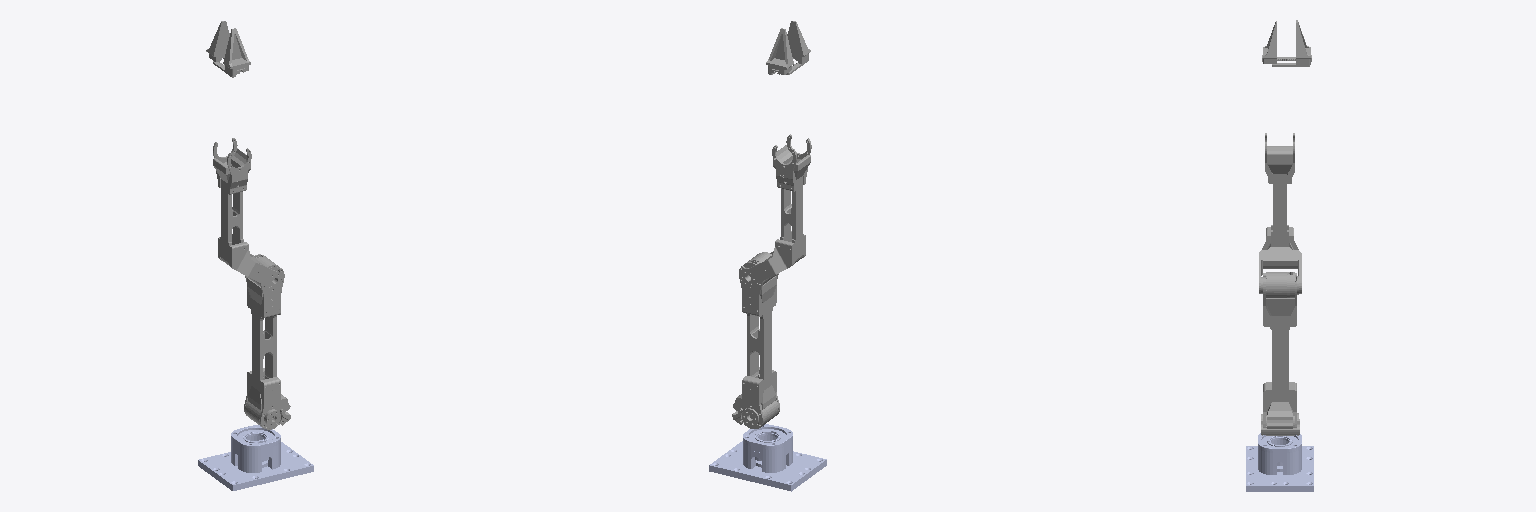
URDF robot description (ice_cream_v12.SLDASM):
<?xml version="1.0" encoding="utf-8"?>
<!-- This URDF was automatically created by SolidWorks to URDF Exporter! Originally created by Stephen Brawner (brawner@gmail.com) 
     Commit Version: 1.6.0-4-g7f85cfe  Build Version: 1.6.7995.38578
     For more information, please see http://wiki.ros.org/sw_urdf_exporter -->
<robot
  name="ice_cream_v12.SLDASM">
  <link
    name="link0">
    <inertial>
      <origin
        xyz="-1.1589E-12 -2.4683E-05 0.022203"
        rpy="0 0 0" />
      <mass
        value="0.64677" />
      <inertia
        ixx="0.00093877"
        ixy="1.322E-11"
        ixz="5.0662E-16"
        iyy="0.0014938"
        iyz="2.86E-07"
        izz="0.0023114" />
    </inertial>
    <visual>
      <origin
        xyz="0 0 0"
        rpy="0 0 0" />
      <geometry>
        <mesh
          filename="package://ice_cream_v12.SLDASM/meshes/link0.STL" />
      </geometry>
      <material
        name="">
        <color
          rgba="0.79216 0.81961 0.93333 1" />
      </material>
    </visual>
    <collision>
      <origin
        xyz="0 0 0"
        rpy="0 0 0" />
      <geometry>
        <mesh
          filename="package://ice_cream_v12.SLDASM/meshes/link0.STL" />
      </geometry>
    </collision>
  </link>
  <link
    name="link1">
    <inertial>
      <origin
        xyz="0.00027968 -1.1097E-05 -0.0099062"
        rpy="0 0 0" />
      <mass
        value="0.40326" />
      <inertia
        ixx="0.00022945"
        ixy="8.1588E-08"
        ixz="-1.1192E-05"
        iyy="0.00013813"
        iyz="-2.9776E-09"
        izz="0.00025905" />
    </inertial>
    <visual>
      <origin
        xyz="0 0 0"
        rpy="0 0 0" />
      <geometry>
        <mesh
          filename="package://ice_cream_v12.SLDASM/meshes/link1.STL" />
      </geometry>
      <material
        name="">
        <color
          rgba="0.69804 0.69804 0.69804 1" />
      </material>
    </visual>
    <collision>
      <origin
        xyz="0 0 0"
        rpy="0 0 0" />
      <geometry>
        <mesh
          filename="package://ice_cream_v12.SLDASM/meshes/link1.STL" />
      </geometry>
    </collision>
  </link>
  <joint
    name="joint1"
    type="continuous">
    <origin
      xyz="0 0 0.067"
      rpy="0 0 0" />
    <parent
      link="link0" />
    <child
      link="link1" />
    <axis
      xyz="0 0 -1" />
    <limit
      lower="-3.14"
      upper="3.14"
      effort="0"
      velocity="0.1" />
  </joint>
  <link
    name="link2">
    <inertial>
      <origin
        xyz="0.069138 -0.0019583 -0.028638"
        rpy="0 0 0" />
      <mass
        value="0.69693" />
      <inertia
        ixx="0.00026315"
        ixy="-0.00010234"
        ixz="-3.267E-09"
        iyy="0.0020828"
        iyz="5.0935E-08"
        izz="0.0021446" />
    </inertial>
    <visual>
      <origin
        xyz="0 0 0"
        rpy="0 0 0" />
      <geometry>
        <mesh
          filename="package://ice_cream_v12.SLDASM/meshes/link2.STL" />
      </geometry>
      <material
        name="">
        <color
          rgba="0.69804 0.69804 0.69804 1" />
      </material>
    </visual>
    <collision>
      <origin
        xyz="0 0 0"
        rpy="0 0 0" />
      <geometry>
        <mesh
          filename="package://ice_cream_v12.SLDASM/meshes/link2.STL" />
      </geometry>
    </collision>
  </link>
  <joint
    name="joint2"
    type="continuous">
    <origin
      xyz="0.02 -0.03115 0.0585"
      rpy="1.5708 -1.5708 0" />
    <parent
      link="link1" />
    <child
      link="link2" />
    <axis
      xyz="0 0 1" />
    <limit
      lower="-3.14"
      upper="3.14"
      effort="0"
      velocity="0.1" />
  </joint>
  <link
    name="link3">
    <inertial>
      <origin
        xyz="0.054018 0.028002 -0.028364"
        rpy="0 0 0" />
      <mass
        value="0.64093" />
      <inertia
        ixx="0.00027528"
        ixy="-0.00014655"
        ixz="2.8375E-10"
        iyy="0.0014948"
        iyz="-5.1917E-08"
        izz="0.0015892" />
    </inertial>
    <visual>
      <origin
        xyz="0 0 0"
        rpy="0 0 0" />
      <geometry>
        <mesh
          filename="package://ice_cream_v12.SLDASM/meshes/link3.STL" />
      </geometry>
      <material
        name="">
        <color
          rgba="0.69804 0.69804 0.69804 1" />
      </material>
    </visual>
    <collision>
      <origin
        xyz="0 0 0"
        rpy="0 0 0" />
      <geometry>
        <mesh
          filename="package://ice_cream_v12.SLDASM/meshes/link3.STL" />
      </geometry>
    </collision>
  </link>
  <joint
    name="joint3"
    type="continuous">
    <origin
      xyz="0.31862 0 0"
      rpy="0 0 0" />
    <parent
      link="link2" />
    <child
      link="link3" />
    <axis
      xyz="0 0 1" />
    <limit
      lower="-3.14"
      upper="3.14"
      effort="0"
      velocity="0.1" />
  </joint>
  <link
    name="link4">
    <inertial>
      <origin
        xyz="0.019865 -0.0020539 -0.024931"
        rpy="0 0 0" />
      <mass
        value="0.4877" />
      <inertia
        ixx="0.00020246"
        ixy="6.2992E-06"
        ixz="6.4615E-09"
        iyy="0.00026934"
        iyz="-1.2536E-07"
        izz="0.00024403" />
    </inertial>
    <visual>
      <origin
        xyz="0 0 0"
        rpy="0 0 0" />
      <geometry>
        <mesh
          filename="package://ice_cream_v12.SLDASM/meshes/link4.STL" />
      </geometry>
      <material
        name="">
        <color
          rgba="0.69804 0.69804 0.69804 1" />
      </material>
    </visual>
    <collision>
      <origin
        xyz="0 0 0"
        rpy="0 0 0" />
      <geometry>
        <mesh
          filename="package://ice_cream_v12.SLDASM/meshes/link4.STL" />
      </geometry>
    </collision>
  </link>
  <joint
    name="joint4"
    type="continuous">
    <origin
      xyz="0.29035 0.076833 -0.00365"
      rpy="0 0 0" />
    <parent
      link="link3" />
    <child
      link="link4" />
    <axis
      xyz="0 0 1" />
    <limit
      lower="-3.14"
      upper="3.14"
      effort="0"
      velocity="0.1" />
  </joint>
  <link
    name="link5">
    <inertial>
      <origin
        xyz="-0.011789 -0.0028402 0.068578"
        rpy="0 0 0" />
      <mass
        value="0.28935" />
      <inertia
        ixx="0.00027601"
        ixy="-6.3131E-06"
        ixz="9.501E-06"
        iyy="0.00011004"
        iyz="1.2774E-06"
        izz="0.00029323" />
    </inertial>
    <visual>
      <origin
        xyz="0 0 0"
        rpy="0 0 0" />
      <geometry>
        <mesh
          filename="package://ice_cream_v12.SLDASM/meshes/link5.STL" />
      </geometry>
      <material
        name="">
        <color
          rgba="1 1 1 1" />
      </material>
    </visual>
    <collision>
      <origin
        xyz="0 0 0"
        rpy="0 0 0" />
      <geometry>
        <mesh
          filename="package://ice_cream_v12.SLDASM/meshes/link5.STL" />
      </geometry>
    </collision>
  </link>
  <joint
    name="joint5"
    type="revolute">
    <origin
      xyz="0.09985 0 -0.028"
      rpy="-1.5708 0 -1.5708" />
    <parent
      link="link4" />
    <child
      link="link5" />
    <axis
      xyz="0 0 1" />
    <limit
      lower="-3.14"
      upper="3.14"
      effort="0"
      velocity="0.1" />
  </joint>
  <link
    name="fingerlink_R">
    <inertial>
      <origin
        xyz="0.000949792211478732 0.000241302402831378 -0.0128174035775703"
        rpy="0 0 0" />
      <mass
        value="0.0525779477597228" />
      <inertia
        ixx="1.05327147378882E-05"
        ixy="9.04687578687825E-08"
        ixz="1.35129160771343E-08"
        iyy="1.02111115701201E-05"
        iyz="-9.18853688739396E-07"
        izz="1.13222084549432E-05" />
    </inertial>
    <visual>
      <origin
        xyz="0 0 0"
        rpy="0 0 0" />
      <geometry>
        <mesh
          filename="package://ice_cream_v12.SLDASM/meshes/fingerlink_R.STL" />
      </geometry>
      <material
        name="">
        <color
          rgba="0.698039215686274 0.698039215686274 0.698039215686274 1" />
      </material>
    </visual>
    <collision>
      <origin
        xyz="0 0 0"
        rpy="0 0 0" />
      <geometry>
        <mesh
          filename="package://ice_cream_v12.SLDASM/meshes/fingerlink_R.STL" />
      </geometry>
    </collision>
  </link>
  <joint
    name="FINGER_RIGHT"
    type="prismatic">
    <origin
      xyz="0 -0.0059728 0.1121"
      rpy="1.5708 0 -3.1416" />
    <parent
      link="link5" />
    <child
      link="fingerlink_R" />
    <axis
      xyz="0 0 1" />
    <limit
      lower="0"
      upper="0.045"
      effort="0"
      velocity="0" />
  </joint>
  <link
    name="fingerlink_L">
    <inertial>
      <origin
        xyz="-0.000957722995018961 -0.000167575777591744 -0.0128174035775744"
        rpy="0 0 0" />
      <mass
        value="0.0525779477597227" />
      <inertia
        ixx="1.05327147378882E-05"
        ixy="9.05163465944645E-08"
        ixz="-1.35129160771307E-08"
        iyy="1.02111115701201E-05"
        iyz="9.18853688739385E-07"
        izz="1.13222084549431E-05" />
    </inertial>
    <visual>
      <origin
        xyz="0 0 0"
        rpy="0 0 0" />
      <geometry>
        <mesh
          filename="package://ice_cream_v12.SLDASM/meshes/fingerlink_L.STL" />
      </geometry>
      <material
        name="">
        <color
          rgba="0.698039215686274 0.698039215686274 0.698039215686274 1" />
      </material>
    </visual>
    <collision>
      <origin
        xyz="0 0 0"
        rpy="0 0 0" />
      <geometry>
        <mesh
          filename="package://ice_cream_v12.SLDASM/meshes/fingerlink_L.STL" />
      </geometry>
    </collision>
  </link>
  <joint
    name="FINGER_L"
    type="prismatic">
    <origin
      xyz="0 0.034027 0.11225"
      rpy="-1.5708 0 -3.1416" />
    <parent
      link="link5" />
    <child
      link="fingerlink_L" />
    <axis
      xyz="0 0 -1" />
    <limit
      lower="0"
      upper="0.045"
      effort="0"
      velocity="0" />
  </joint>
</robot>

--- Facts derived from the render (not from the file) ---
Views: 3 orthographic renders of the robot side by side, from view 1: azimuth 30°, elevation 25°; view 2: azimuth 150°, elevation 25°; view 3: azimuth 270°, elevation 25°.
Robot: ice_cream_v12.SLDASM — 8 links, 7 joints (1 revolute, 4 continuous, 2 prismatic); root link link0; default pose: all joints at 0.
Links seen in each view (by area): view 1: link2, link0, link3, fingerlink_R, fingerlink_L; view 2: link2, link0, link3, fingerlink_L, fingerlink_R; view 3: link3, link2, link0, fingerlink_L.
Link boxes in pixels (left/top/right/bottom): link2: left=244, top=268, right=290, bottom=429; link0: left=198, top=425, right=313, bottom=490; link3: left=213, top=138, right=281, bottom=287; fingerlink_R: left=213, top=28, right=250, bottom=77; fingerlink_L: left=206, top=21, right=241, bottom=71; link2: left=732, top=266, right=779, bottom=428; link0: left=709, top=424, right=826, bottom=491; link3: left=741, top=134, right=811, bottom=285; fingerlink_L: left=766, top=28, right=793, bottom=74; fingerlink_R: left=786, top=21, right=810, bottom=74; link3: left=1259, top=133, right=1301, bottom=297; link2: left=1261, top=273, right=1299, bottom=435; link0: left=1246, top=433, right=1313, bottom=491; fingerlink_L: left=1272, top=20, right=1311, bottom=66.
Size in the robot's own frame: 0.195 by 0.145 by 1.02 metres.
5 mesh visuals loaded from 8 distinct referenced files (5 binary STL); not drawn: 3 (reference not matched to a file when rendering).
